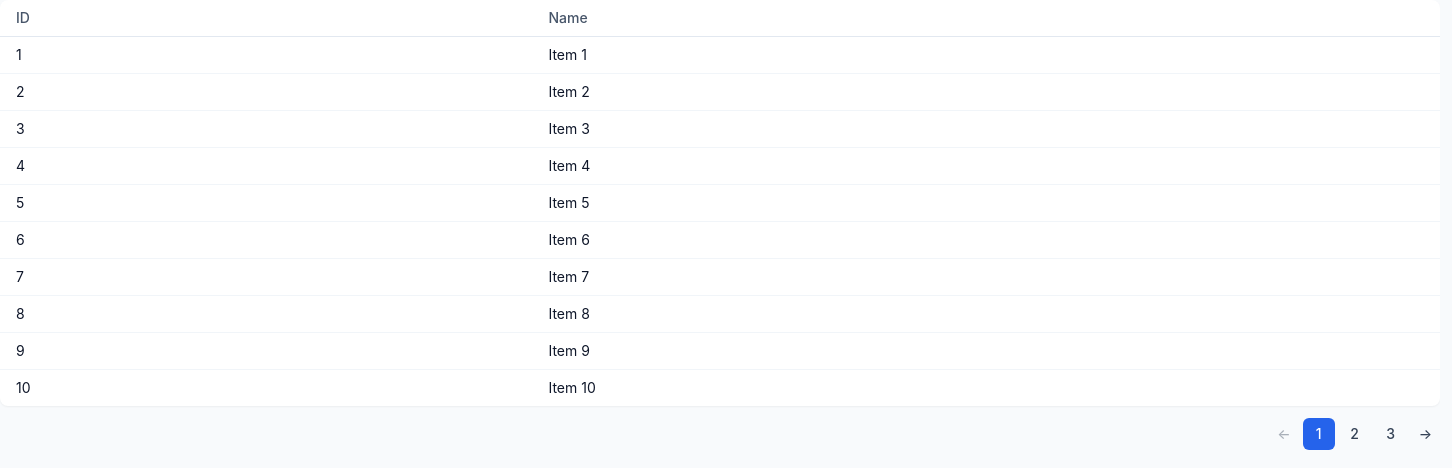
Test: DataTable › navigates between pages via the Pagination control
Click the button "2" at (1355, 434), box [1339, 418, 1371, 450]
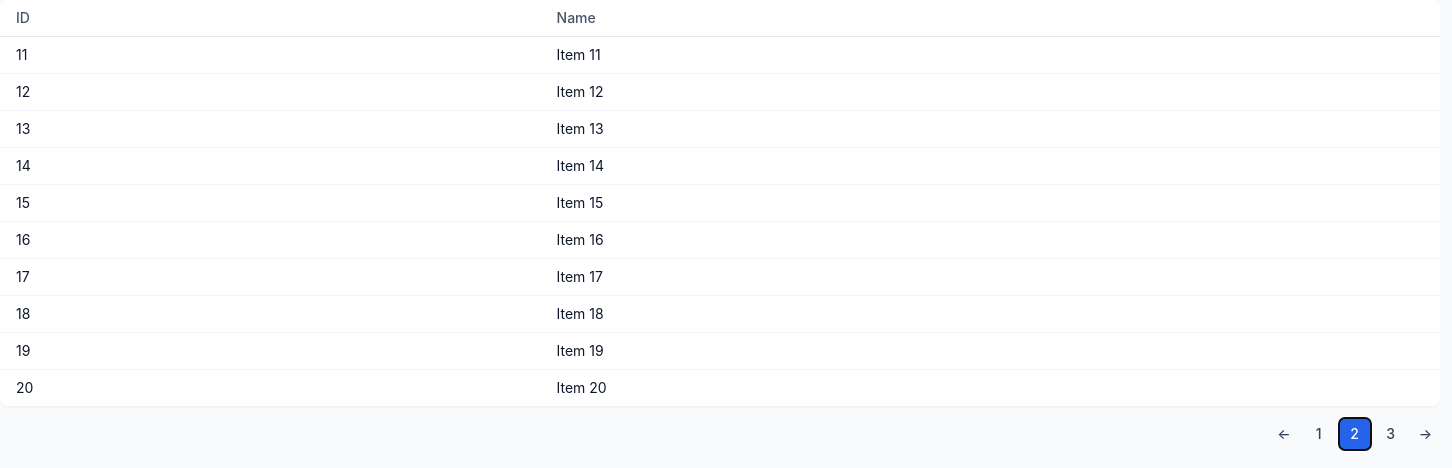
Now the text "Item 11" is shown, box [540, 36, 1440, 74]
Now the text "Item 20" is shown, box [540, 370, 1440, 406]
